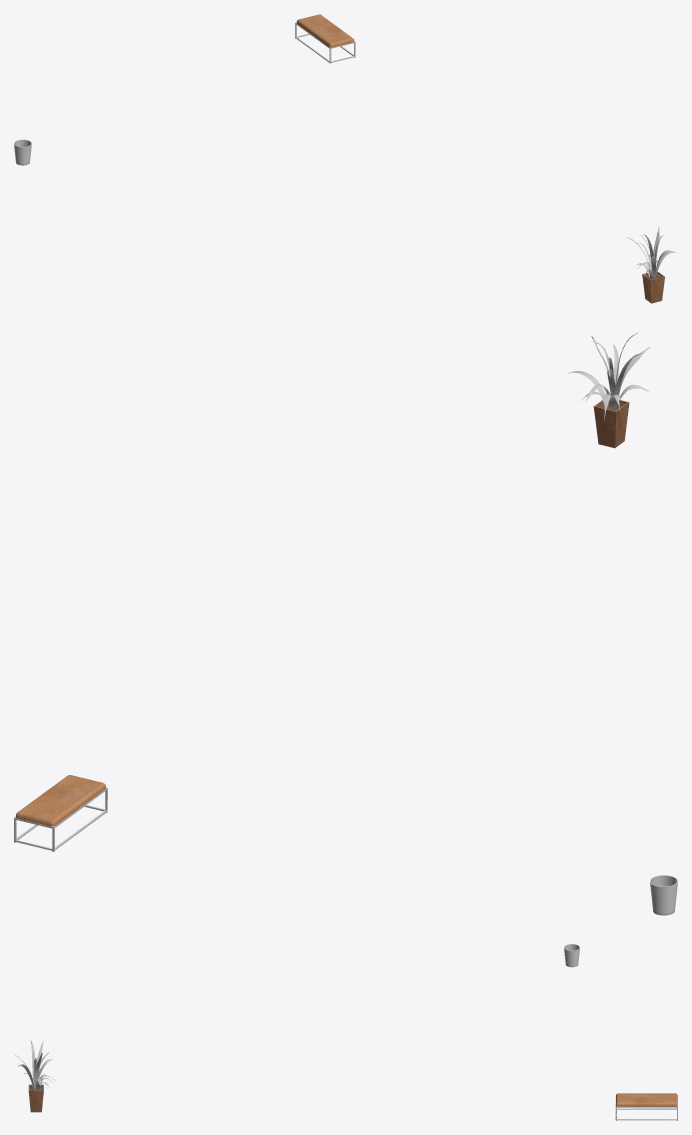
File: Sofa.fbx
The picture shows the model from 3 angles, top to bottom: view 1: azimuth 30°, elevation 25°; view 2: azimuth 150°, elevation 25°; view 3: azimuth 270°, elevation 25°; orthographic projection. The views are drawn at different scales.
Visible parts, largest first — view 1: Sofa; view 2: Sofa; view 3: Sofa.
Part boxes in pixels (box(x1,y1,x2,y2)): Sofa: box(14, 14, 677, 303); Sofa: box(14, 333, 677, 915); Sofa: box(15, 944, 677, 1120).
Size of the model in its own units: 9.13 by 1.71 by 15.97.
